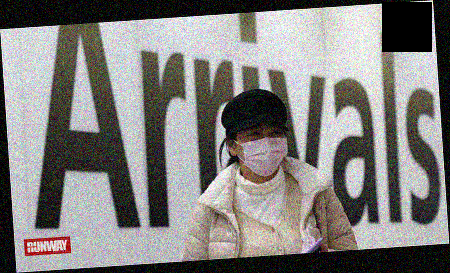with_mask: (236, 130, 289, 177)
